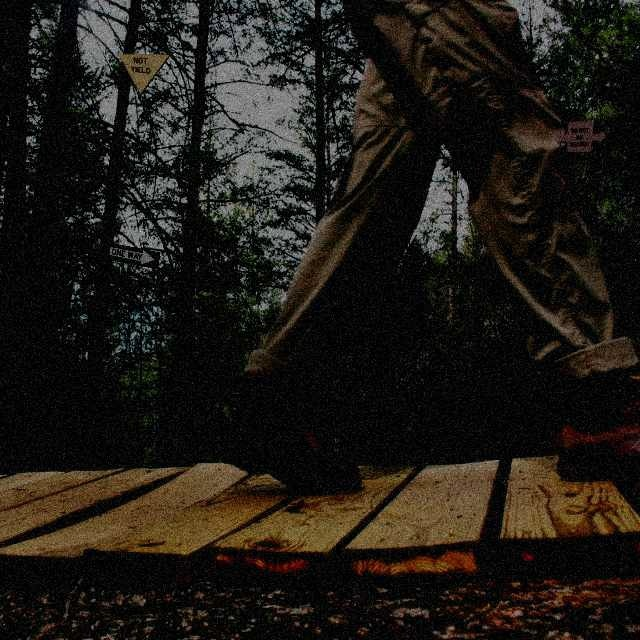DO_NOT_GO_AROUND: (553, 120, 607, 153)
NOT_YIELD: (117, 53, 171, 95)
ONE_WAY_ right: (106, 242, 160, 269)
